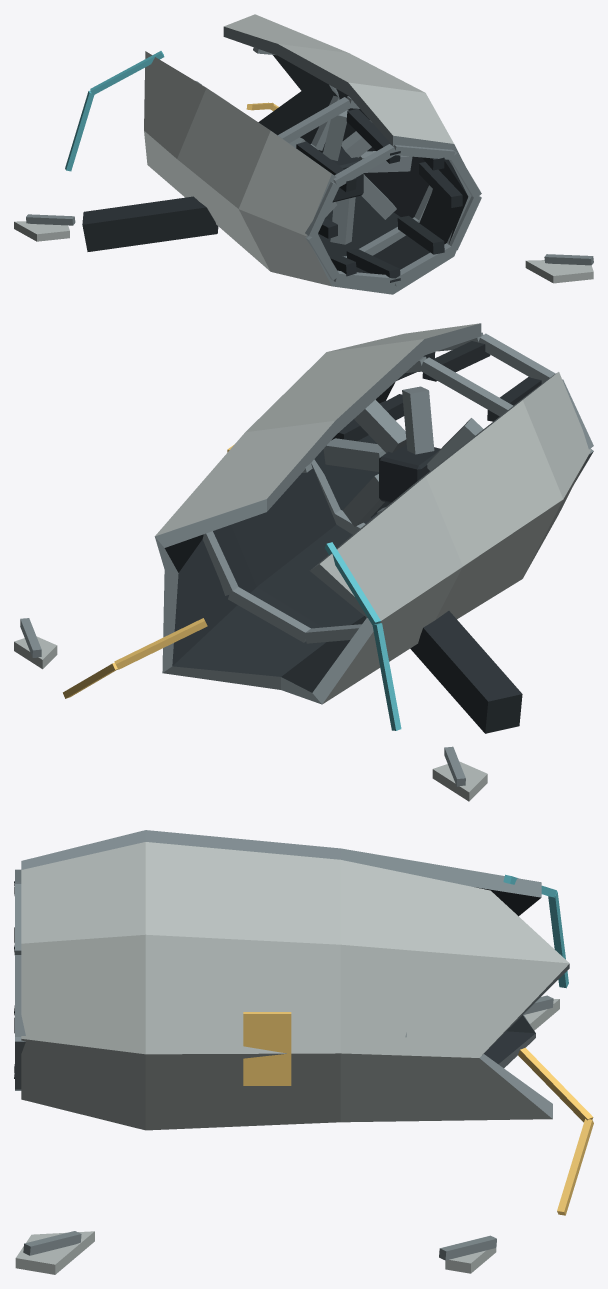
The model's file is debris-engine.glb.
3 views of the same model, one above another, from view 1: azimuth 30°, elevation 25°; view 2: azimuth 150°, elevation 25°; view 3: azimuth 270°, elevation 25° (orthographic). The views are drawn at different scales.
Visible parts, largest first — view 1: debris-engine / Survey ship ivory armor, debris-engine / Scorched graphite interiors, debris-engine / Exposed survey ship frame, debris-engine / Survey ship cyan service lines; view 2: debris-engine / Survey ship ivory armor, debris-engine / Scorched graphite interiors, debris-engine / Exposed survey ship frame, debris-engine / Survey ship cyan service lines, debris-engine / Survey ship gold identification; view 3: debris-engine / Survey ship ivory armor, debris-engine / Exposed survey ship frame, debris-engine / Survey ship gold identification, debris-engine / Scorched graphite interiors, debris-engine / Survey ship cyan service lines.
Boxes of the visible parts, box(x1,y1,x2,y2) form: debris-engine / Survey ship ivory armor: box(14, 14, 593, 286); debris-engine / Scorched graphite interiors: box(82, 55, 468, 282); debris-engine / Exposed survey ship frame: box(26, 26, 593, 294); debris-engine / Survey ship cyan service lines: box(65, 51, 164, 171); debris-engine / Survey ship ivory armor: box(14, 323, 590, 801); debris-engine / Scorched graphite interiors: box(164, 341, 541, 733); debris-engine / Exposed survey ship frame: box(20, 323, 593, 786); debris-engine / Survey ship cyan service lines: box(325, 542, 401, 730); debris-engine / Survey ship gold identification: box(63, 444, 234, 698); debris-engine / Survey ship ivory armor: box(15, 842, 569, 1274); debris-engine / Exposed survey ship frame: box(15, 830, 569, 1260); debris-engine / Survey ship gold identification: box(243, 1012, 593, 1215); debris-engine / Scorched graphite interiors: box(14, 881, 540, 1078); debris-engine / Survey ship cyan service lines: box(503, 874, 568, 988).
Size of the model in its own units: 2.24 by 1.14 by 2.05.
